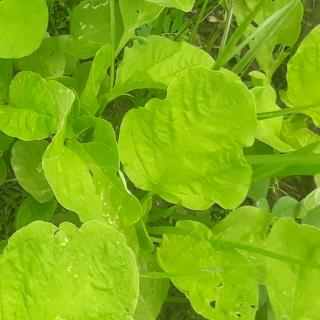karat_putih: (95, 178, 127, 228)
virus_keriting: (106, 274, 137, 320), (40, 220, 92, 246), (226, 133, 256, 175)
